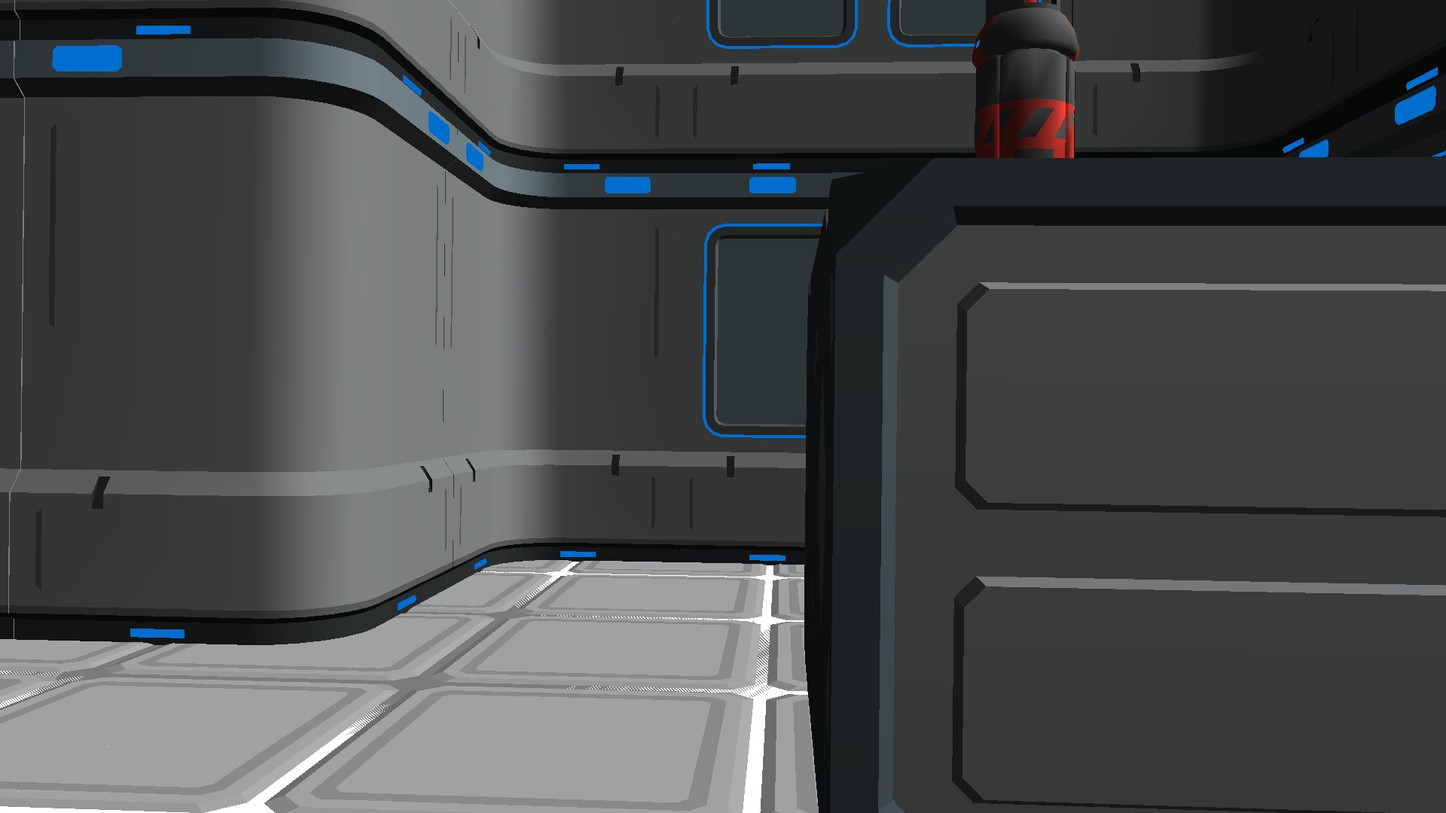red barrel: (972, 0, 1080, 158)
